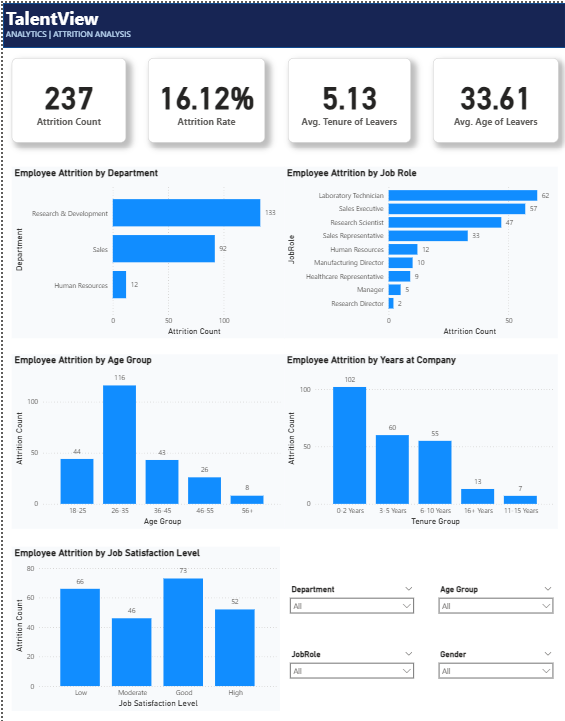

The dashboard page shown, as its layout file describes it:
{"tool":"powerbi","page":{"name":"Attrition Analysis","canvas":[1000,1280],"ordinal":1},"visuals":[{"type":"shape","box":[0,0,1000,80],"z":0},{"type":"textbox","box":[0,0,240,80],"z":1000},{"type":"textbox","box":[0,40,238.3,40],"z":2000},{"type":"card","fields":{"Values":["Measure Table.Attrition Count"]},"box":[15,98.3,203.3,150],"z":3000},{"type":"card","fields":{"Values":["Measure Table.Attrition Rate"]},"box":[257.8,98.3,208.3,150],"z":4000},{"type":"card","fields":{"Values":["Measure Table.Average Tenure of Leavers"]},"box":[505.6,98.3,218.3,150],"z":5000},{"type":"card","fields":{"Values":["Measure Table.Average Age of Leavers"]},"box":[763.3,98.3,223.3,150],"z":6000},{"type":"clusteredBarChart","title":"Employee Attrition by Department","fields":{"Category":["DimDepartment.Department"],"Y":["Measure Table.Attrition Count"]},"box":[15,291.7,485,305],"z":7000},{"type":"clusteredBarChart","title":"Employee Attrition by Job Role","fields":{"Category":["DimJobRole.JobRole"],"Y":["Measure Table.Attrition Count"]},"box":[500,291.7,486.7,305],"z":8000},{"type":"clusteredColumnChart","title":"Employee Attrition by Age Group","fields":{"Category":["FactEmployee.Age Group"],"Y":["Measure Table.Attrition Count"]},"box":[15,623.3,485,310],"z":9000},{"type":"clusteredColumnChart","title":"Employee Attrition by Years at Company","fields":{"Category":["FactEmployee.Tenure Group"],"Y":["Measure Table.Attrition Count"]},"box":[500,623.3,486.7,310],"z":10000},{"type":"clusteredColumnChart","title":"Employee Attrition by Job Satisfaction Level","fields":{"Y":["Measure Table.Attrition Count"],"Category":["FactEmployee.Job Satisfaction Level"]},"box":[15,966.7,476.7,291.7],"z":11000},{"type":"slicer","fields":{"Values":["DimDepartment.Department"]},"box":[500,1028.3,240,70],"z":12000},{"type":"slicer","fields":{"Values":["DimJobRole.JobRole"]},"box":[500,1145,240,68.3],"z":13000},{"type":"slicer","fields":{"Values":["FactEmployee.Age Group"]},"box":[763.3,1028.3,223.3,70],"z":14000},{"type":"slicer","fields":{"Values":["DimGender.Gender"]},"box":[763.3,1145,223.3,68.3],"z":15000}]}

Visuals, with their boxes in screenshot pixels (x1, y1, x2, y2), scaled from the page's 1000x1280 canvas onto the 565x721 screenshot:
shape: bbox=[0, 0, 564, 45]
textbox: bbox=[0, 0, 136, 45]
textbox: bbox=[0, 23, 135, 45]
card - Measure Table.Attrition Count: bbox=[8, 55, 123, 140]
card - Measure Table.Attrition Rate: bbox=[146, 55, 263, 140]
card - Measure Table.Average Tenure of Leavers: bbox=[286, 55, 409, 140]
card - Measure Table.Average Age of Leavers: bbox=[431, 55, 557, 140]
"Employee Attrition by Department" clusteredBarChart: bbox=[8, 164, 282, 336]
"Employee Attrition by Job Role" clusteredBarChart: bbox=[282, 164, 557, 336]
"Employee Attrition by Age Group" clusteredColumnChart: bbox=[8, 351, 282, 526]
"Employee Attrition by Years at Company" clusteredColumnChart: bbox=[282, 351, 557, 526]
"Employee Attrition by Job Satisfaction Level" clusteredColumnChart: bbox=[8, 545, 278, 709]
slicer - DimDepartment.Department: bbox=[282, 579, 418, 619]
slicer - DimJobRole.JobRole: bbox=[282, 645, 418, 683]
slicer - FactEmployee.Age Group: bbox=[431, 579, 557, 619]
slicer - DimGender.Gender: bbox=[431, 645, 557, 683]
